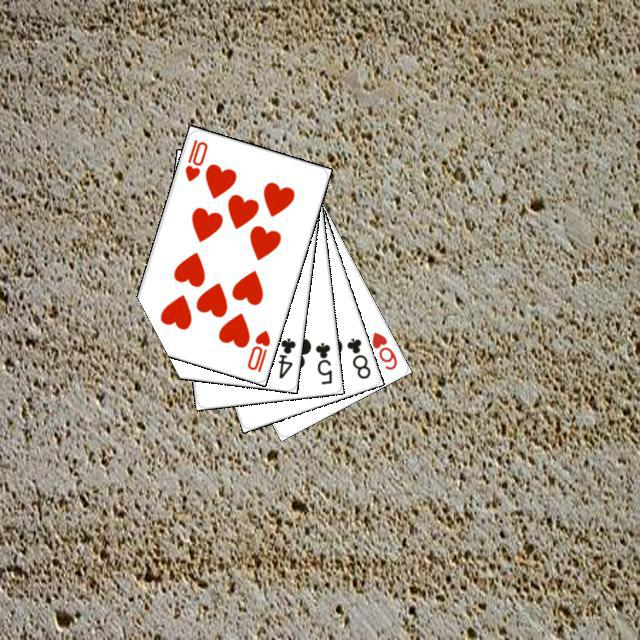10h: (242, 325, 272, 374), (180, 134, 209, 183)
4c: (273, 333, 297, 380)
5c: (310, 337, 334, 386)
6h: (367, 327, 399, 372)
8c: (342, 333, 372, 381)
